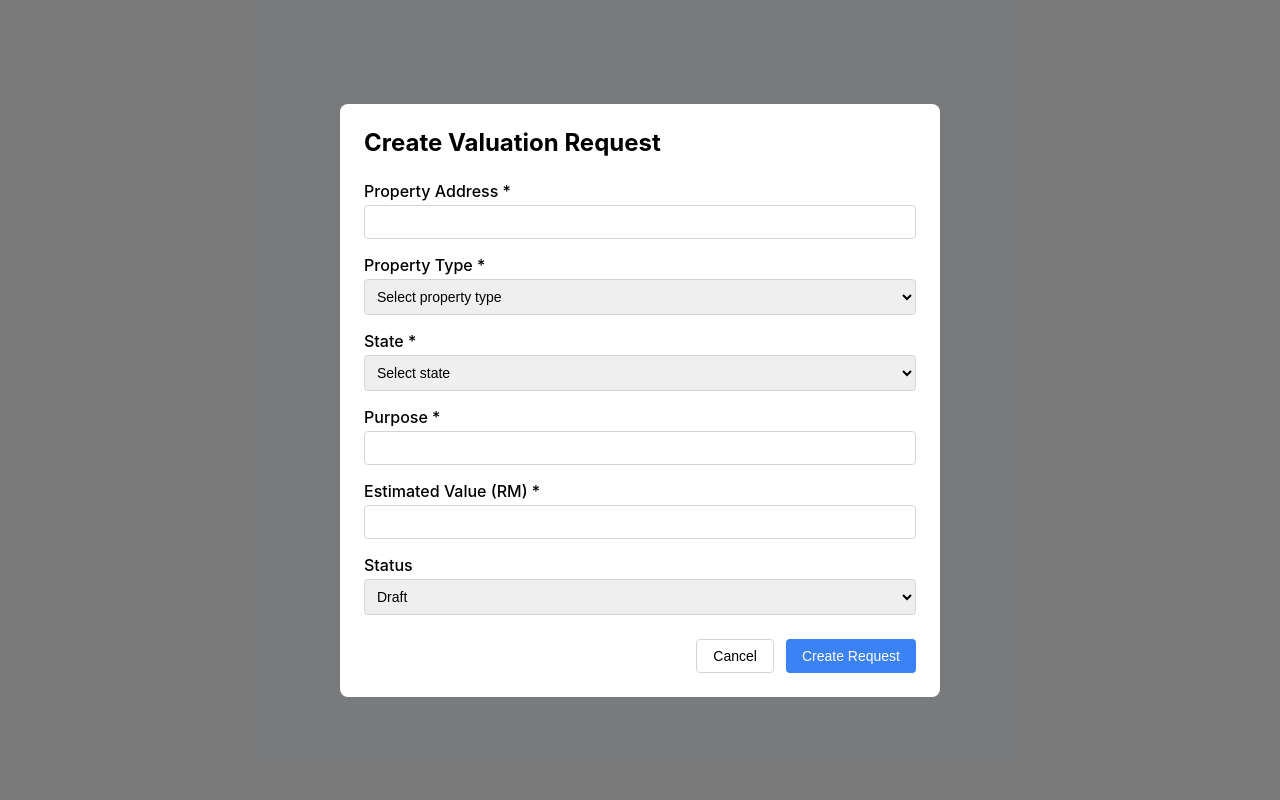
Scenario: RequestForm › clears error when user starts typing in field
# Trigger validation error
Click the button "Create Request" at (851, 656), box left=786, top=638, right=916, bottom=672
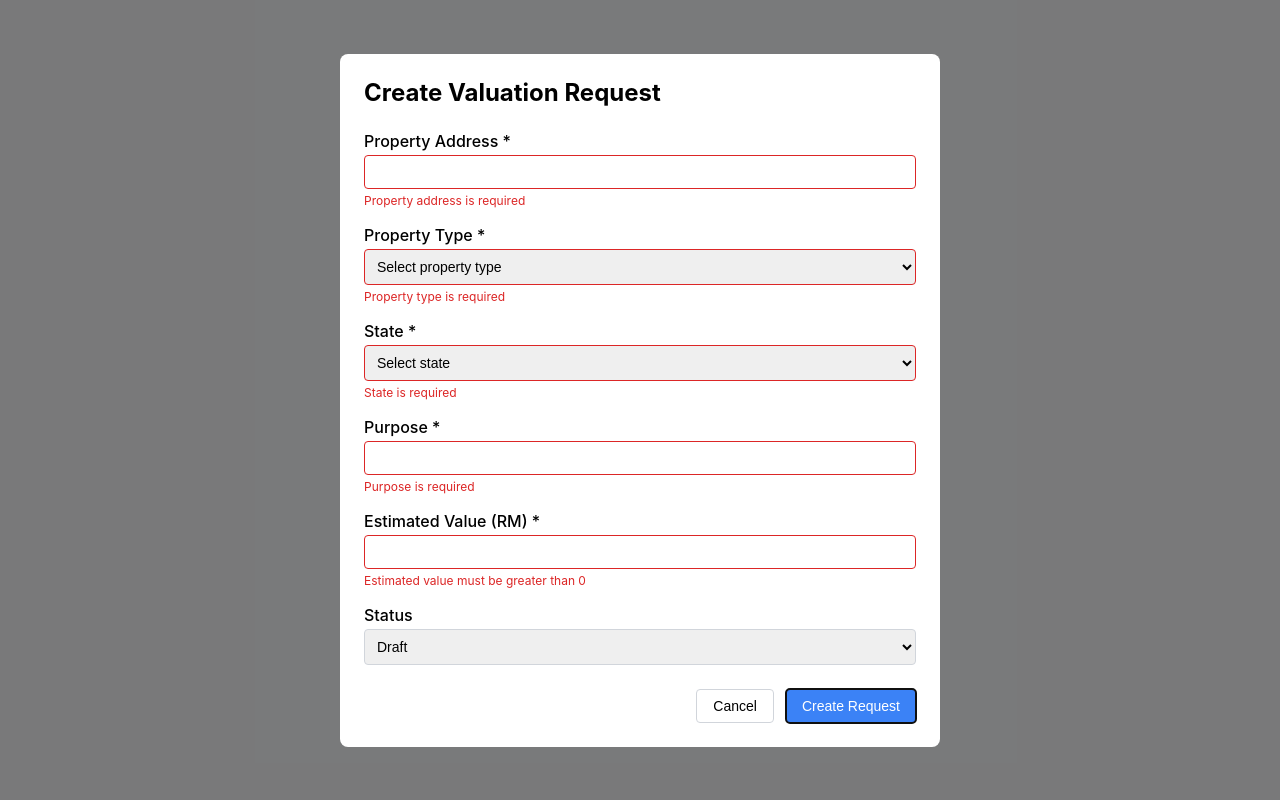
Expected: the text "Property address is required" is shown, left=364, top=192, right=525, bottom=208
# Start typing in the field
Type "Test" into the field labelled "Property Address *" at (640, 172), box left=364, top=154, right=916, bottom=188
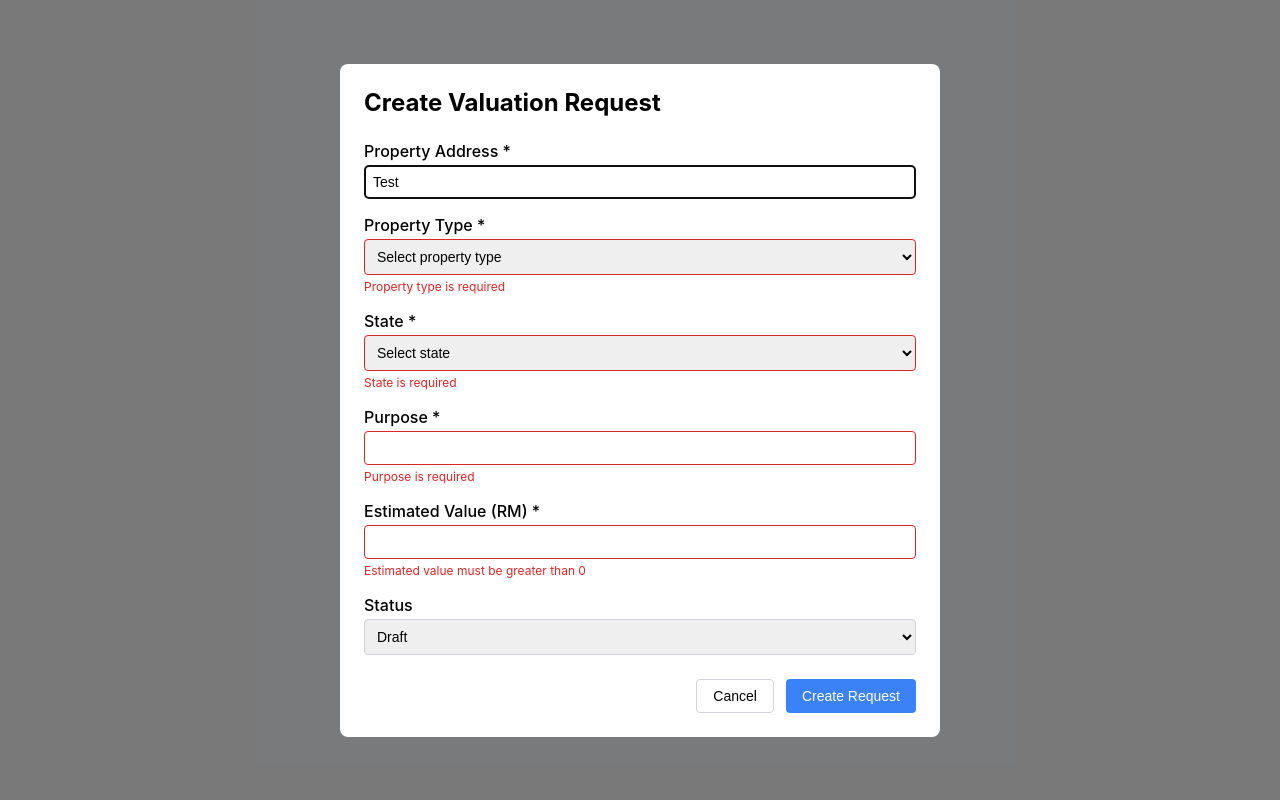
Expected: the text "Property address is required" is gone
